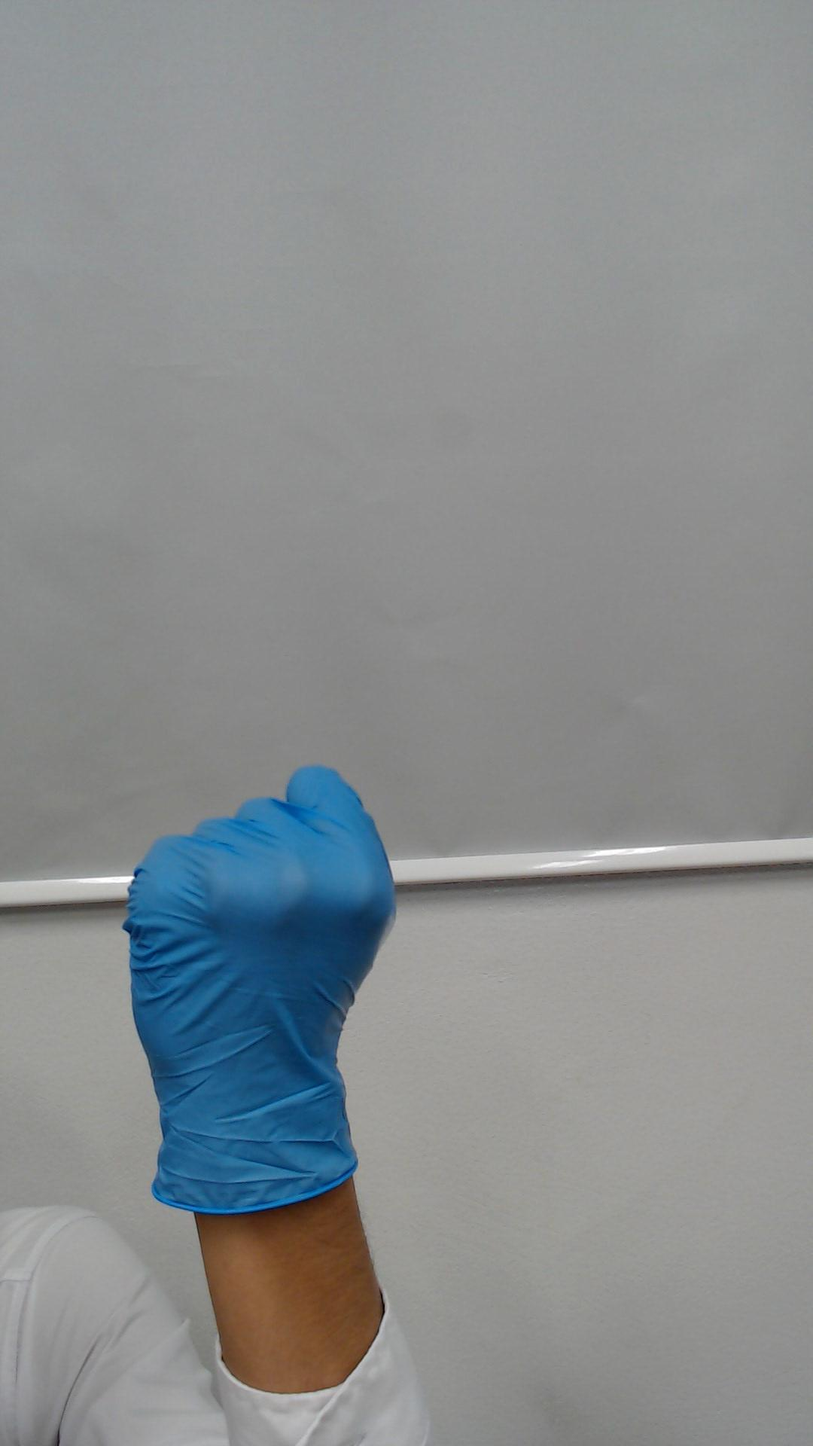gloves: (86, 718, 432, 1091)
